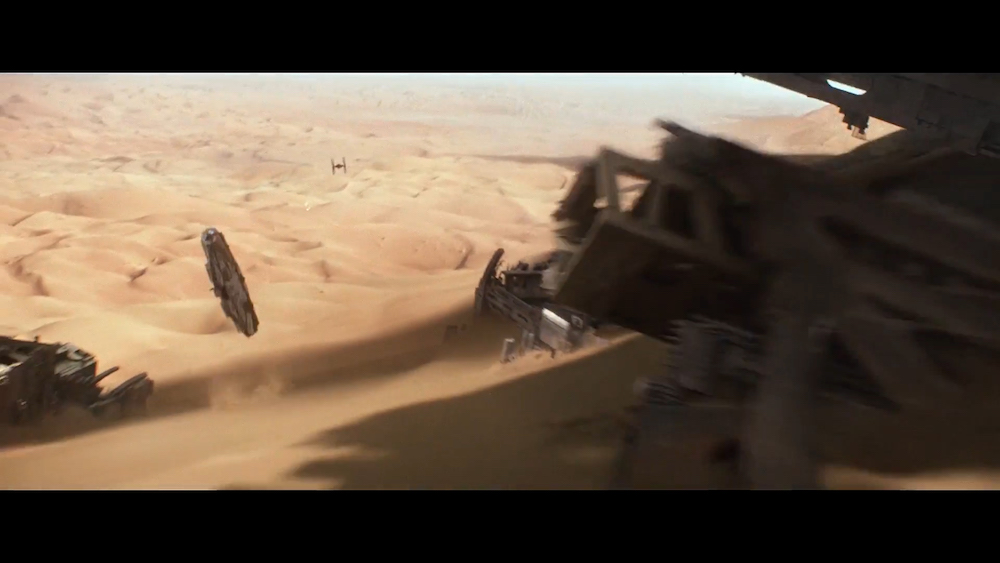Millennium Falcon: (201, 228, 260, 339)
Tie Fighter: (332, 157, 347, 176)
